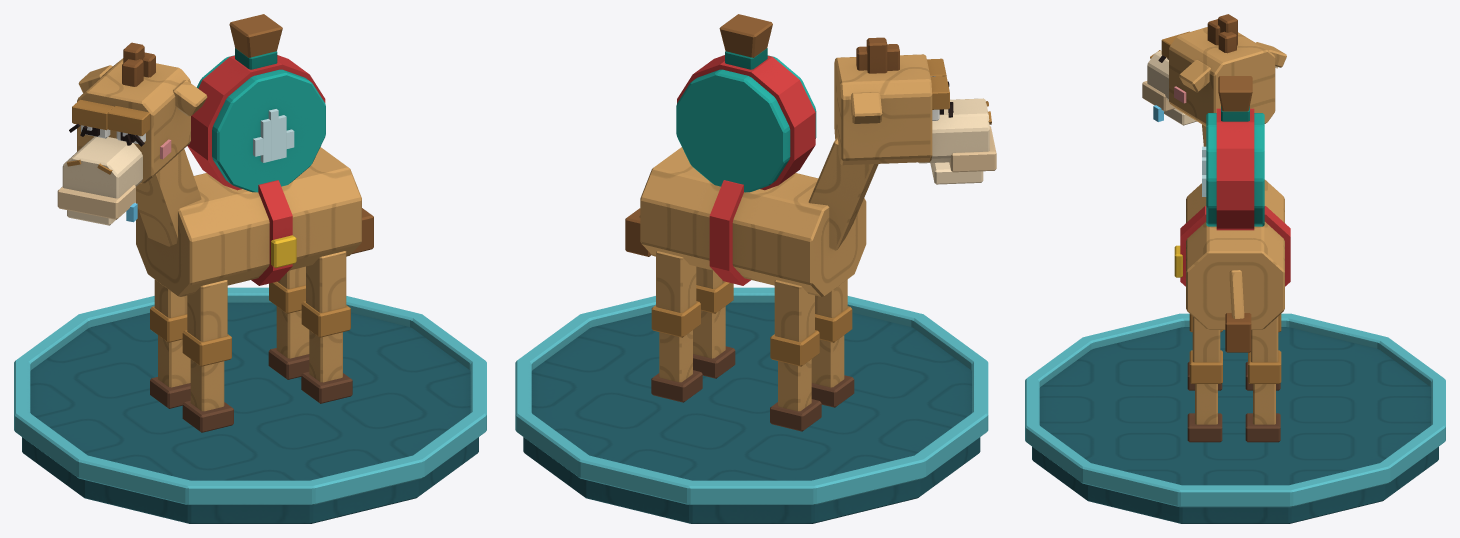
The model's file is CanteenCamel.fbx.
The picture shows the model from 3 angles, left to right: view 1: azimuth 30°, elevation 25°; view 2: azimuth 150°, elevation 25°; view 3: azimuth 270°, elevation 25°; orthographic projection. The views are drawn at different scales.
Visible parts, largest first — view 1: Art_CanteenCamel_Stand, Art_CanteenCamel_Body, Art_CanteenCamel_Head, Art_CanteenCamel_Canteen, Art_CanteenCamel_LegFL, Art_CanteenCamel_LegBL, Art_CanteenCamel_LegFR, Art_CanteenCamel_LegBR, Art_CanteenCamel_Cork, Art_CanteenCamel_Jaw; view 2: Art_CanteenCamel_Stand, Art_CanteenCamel_Body, Art_CanteenCamel_Head, Art_CanteenCamel_Canteen, Art_CanteenCamel_LegFR, Art_CanteenCamel_LegBR, Art_CanteenCamel_LegFL, Art_CanteenCamel_LegBL, Art_CanteenCamel_Cork, Art_CanteenCamel_Jaw, Art_CanteenCamel_Tail; view 3: Art_CanteenCamel_Stand, Art_CanteenCamel_Body, Art_CanteenCamel_Head, Art_CanteenCamel_Canteen, Art_CanteenCamel_LegBL, Art_CanteenCamel_LegBR, Art_CanteenCamel_Tail, Art_CanteenCamel_Cork.
Boxes of the visible parts, bbox=[...] form: Art_CanteenCamel_Stand: bbox=[14, 287, 486, 523]; Art_CanteenCamel_Body: bbox=[136, 147, 361, 296]; Art_CanteenCamel_Head: bbox=[57, 42, 207, 219]; Art_CanteenCamel_Canteen: bbox=[187, 48, 325, 192]; Art_CanteenCamel_LegFL: bbox=[182, 280, 233, 432]; Art_CanteenCamel_LegBL: bbox=[301, 251, 352, 403]; Art_CanteenCamel_LegFR: bbox=[150, 279, 190, 408]; Art_CanteenCamel_LegBR: bbox=[268, 266, 309, 379]; Art_CanteenCamel_Cork: bbox=[229, 14, 282, 57]; Art_CanteenCamel_Jaw: bbox=[67, 203, 137, 225]; Art_CanteenCamel_Stand: bbox=[515, 287, 988, 523]; Art_CanteenCamel_Body: bbox=[640, 137, 878, 296]; Art_CanteenCamel_Head: bbox=[834, 37, 996, 172]; Art_CanteenCamel_Canteen: bbox=[676, 48, 816, 192]; Art_CanteenCamel_LegFR: bbox=[770, 280, 821, 431]; Art_CanteenCamel_LegBR: bbox=[651, 251, 702, 402]; Art_CanteenCamel_LegFL: bbox=[811, 279, 854, 407]; Art_CanteenCamel_LegBL: bbox=[693, 266, 735, 378]; Art_CanteenCamel_Cork: bbox=[719, 14, 772, 57]; Art_CanteenCamel_Jaw: bbox=[930, 162, 983, 184]; Art_CanteenCamel_Tail: bbox=[625, 208, 651, 256]; Art_CanteenCamel_Stand: bbox=[1025, 313, 1445, 523]; Art_CanteenCamel_Body: bbox=[1174, 124, 1290, 329]; Art_CanteenCamel_Head: bbox=[1142, 14, 1286, 126]; Art_CanteenCamel_Canteen: bbox=[1202, 106, 1264, 230]; Art_CanteenCamel_LegBL: bbox=[1187, 316, 1222, 442]; Art_CanteenCamel_LegBR: bbox=[1245, 316, 1281, 442]; Art_CanteenCamel_Tail: bbox=[1225, 270, 1251, 352]; Art_CanteenCamel_Cork: bbox=[1218, 76, 1252, 111].
Bounding box in the file's own units: 2.99 × 2.8 × 2.9.
